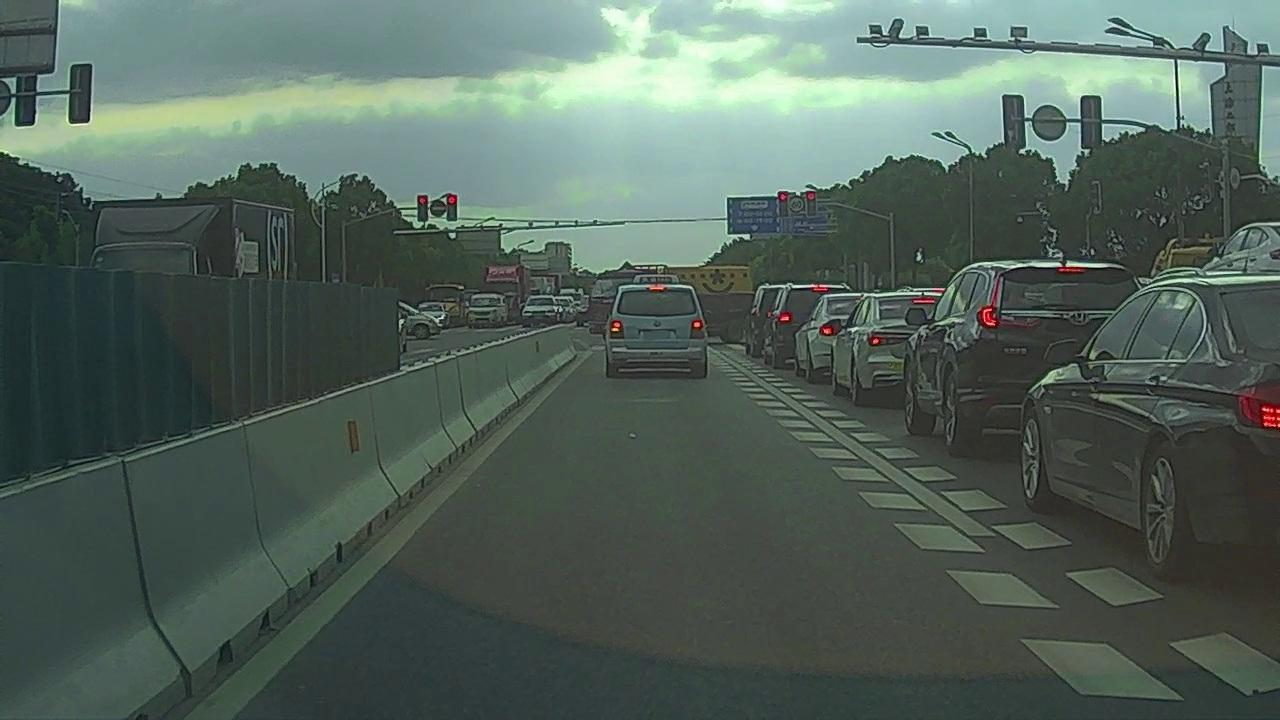traffic_light: (804, 190, 817, 217), (776, 190, 788, 218), (416, 195, 428, 222), (445, 194, 457, 221)
